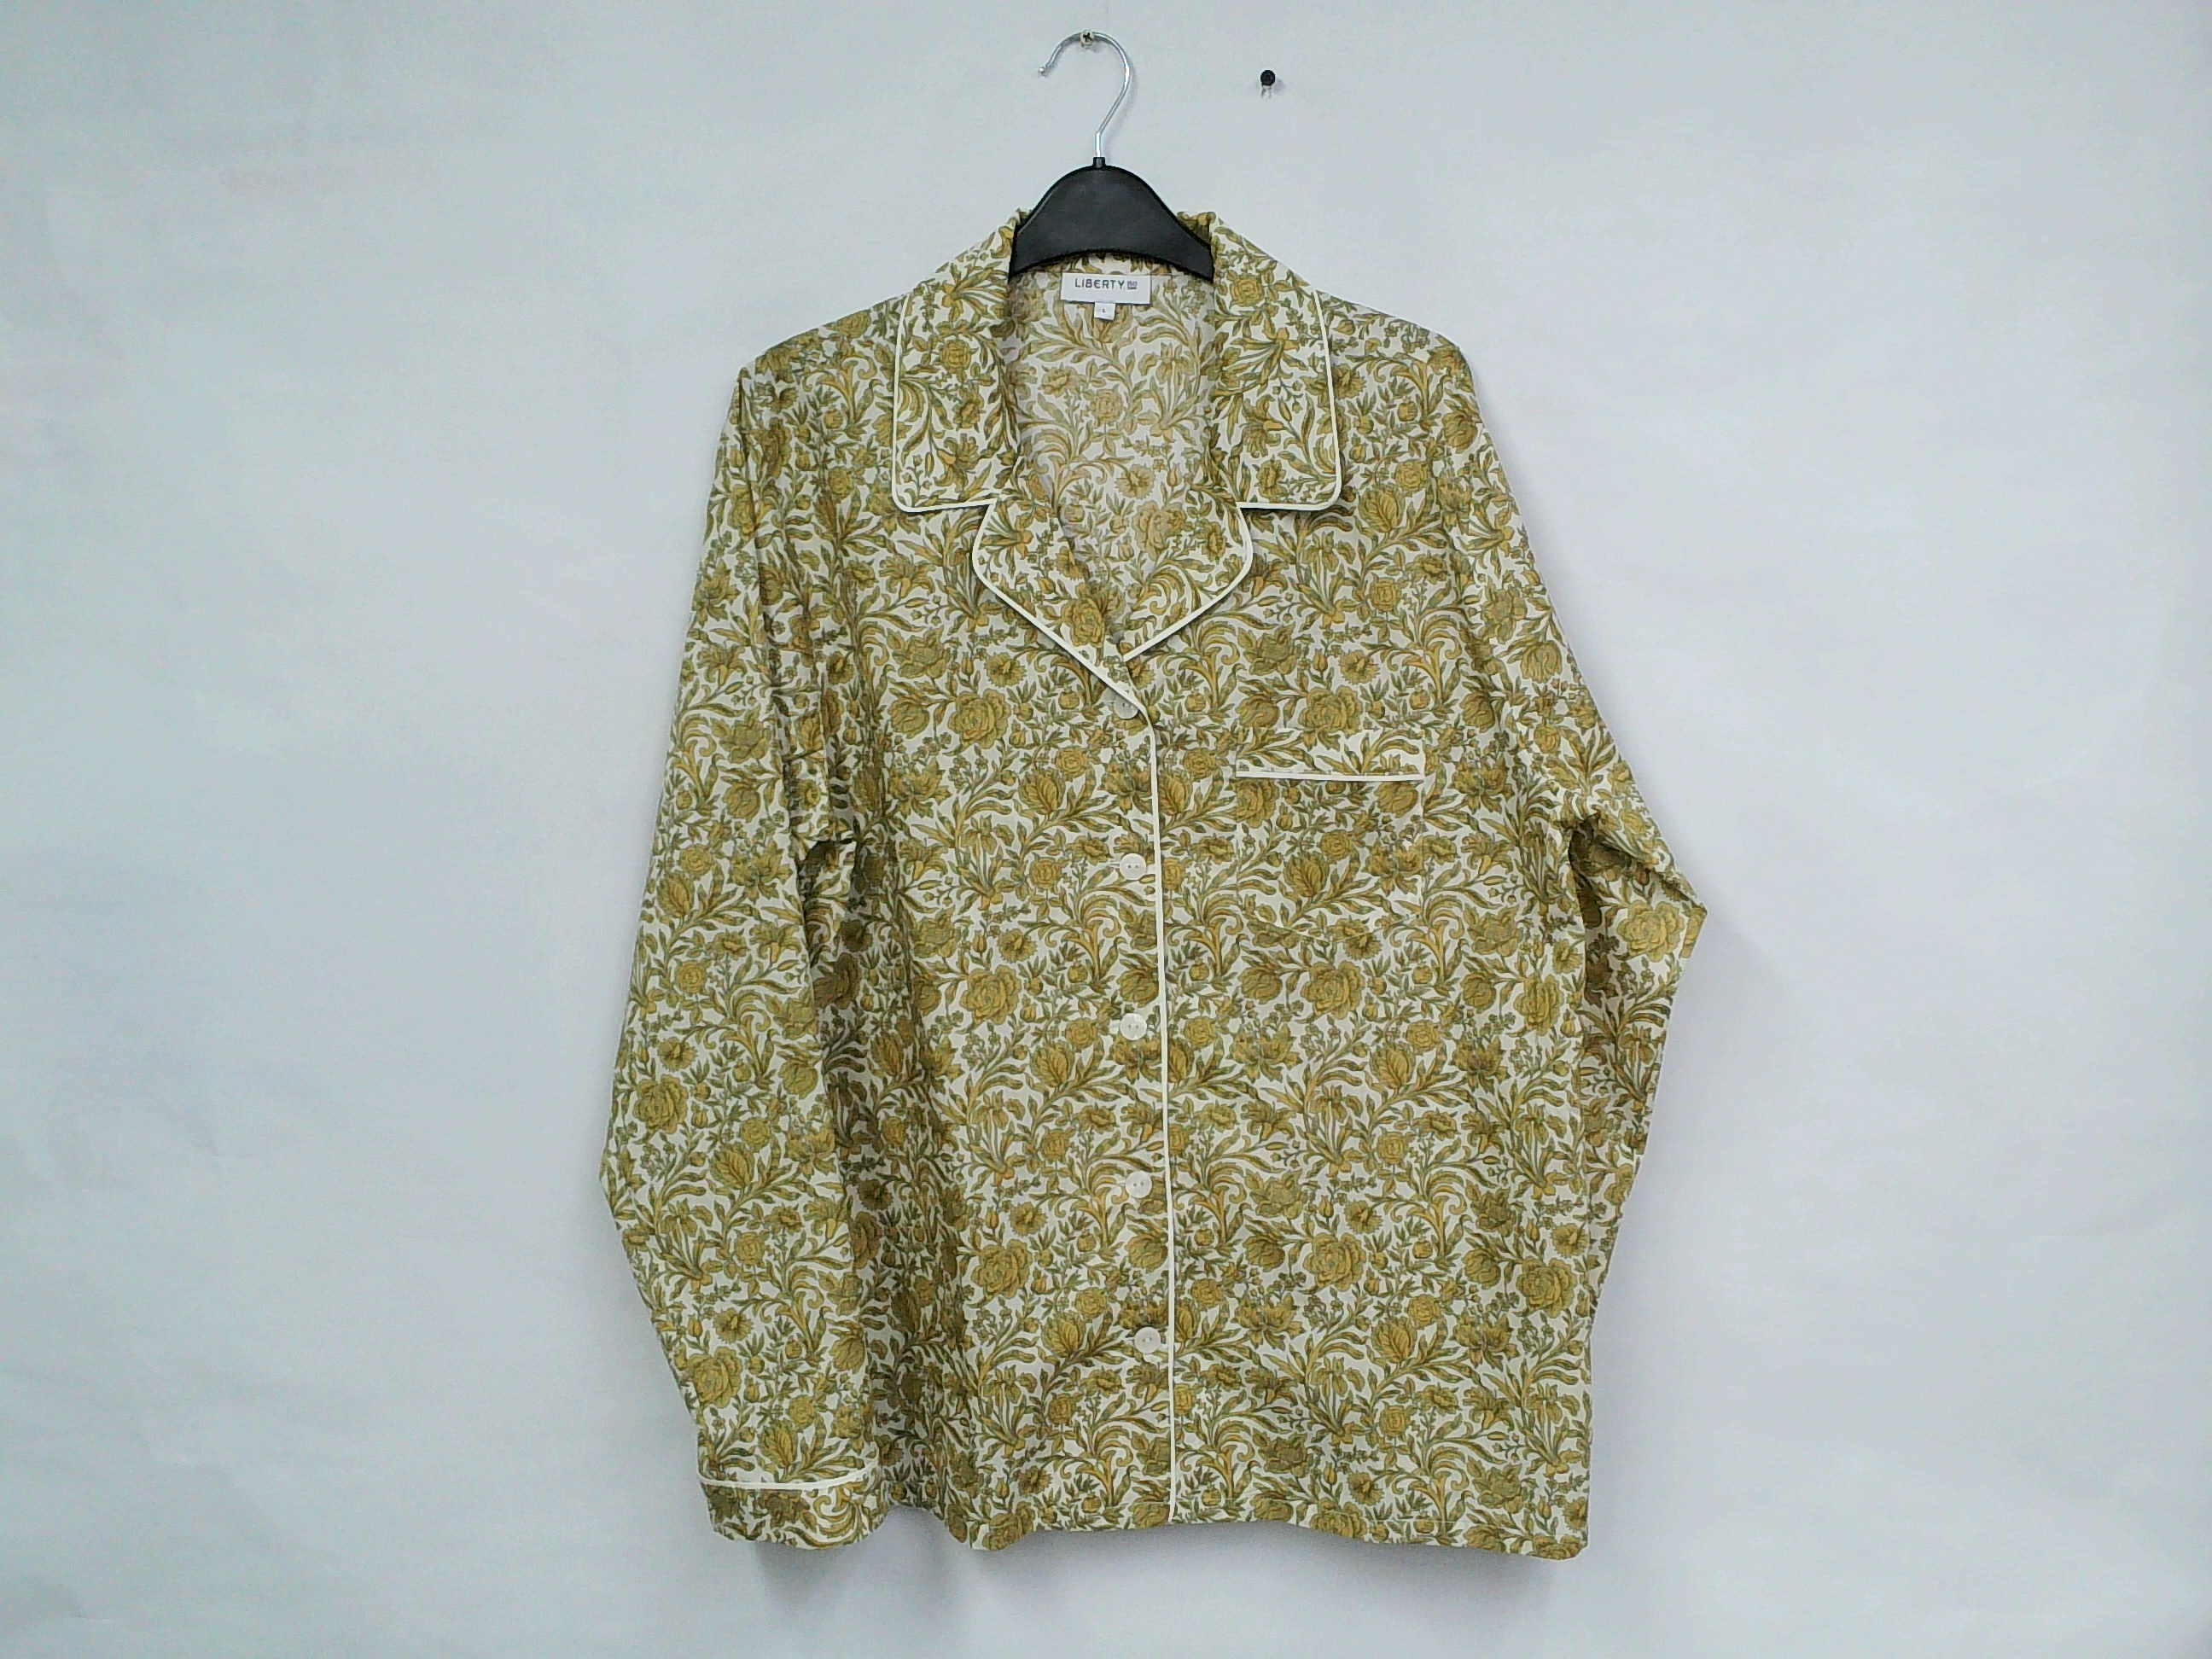seam: (1369, 714, 1454, 957)
